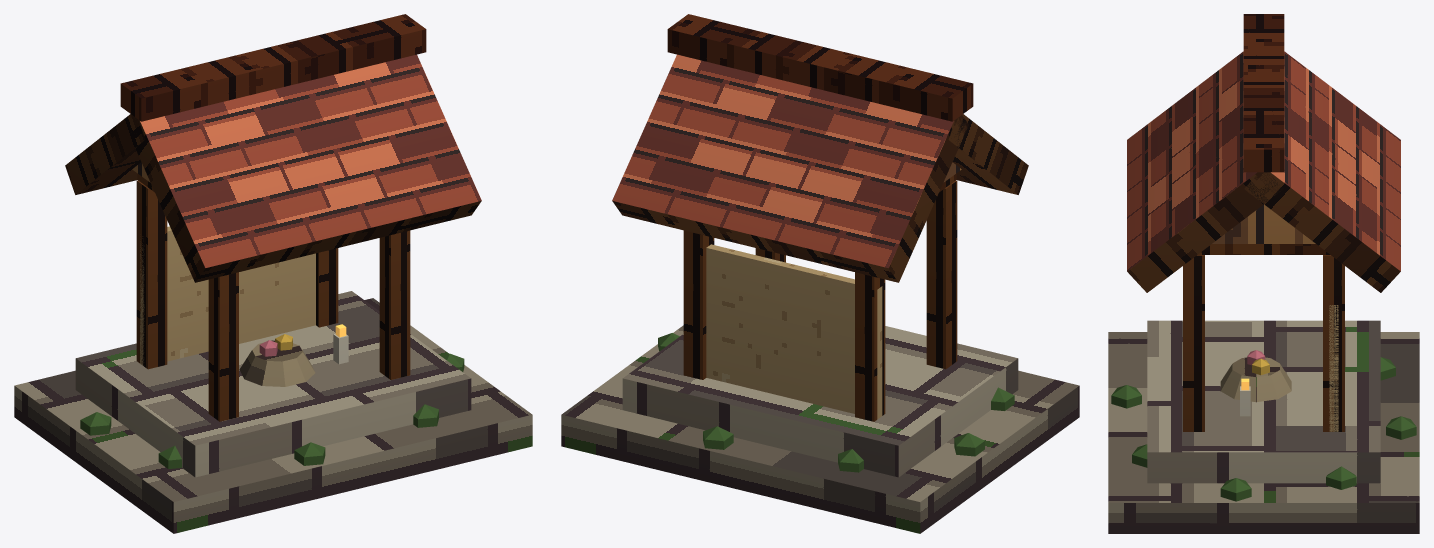
File: shrine.glb
3 renders of one model, left to right at view 1: azimuth 30°, elevation 25°; view 2: azimuth 150°, elevation 25°; view 3: azimuth 270°, elevation 25°, orthographic. The views are drawn at different scales.
Visible parts, largest first — view 1: shrine; view 2: shrine; view 3: shrine.
Boxes of the visible parts, x1,y1,x2,y2 form: shrine: (14, 14, 532, 533); shrine: (561, 14, 1079, 533); shrine: (1108, 14, 1419, 533).
Bounding box in the file's own units: 2.6 × 2.6 × 2.
Materials: 6 (4 with a texture image).
